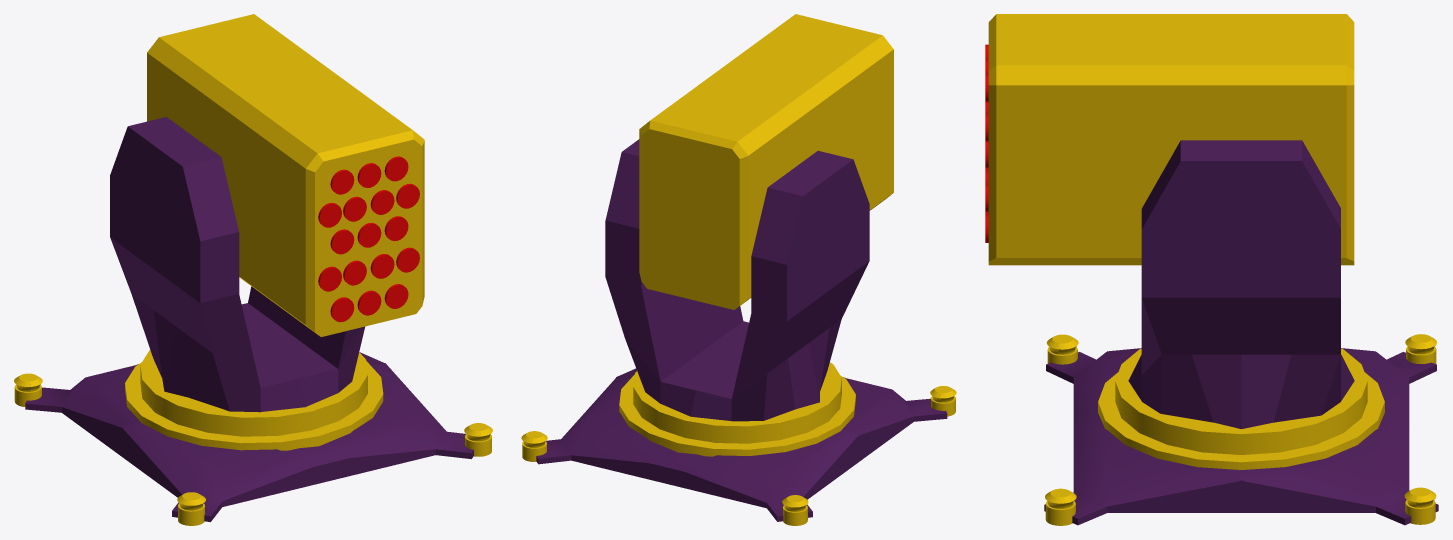
Rendered from Cannon4.fbx.
3 views of the same model, side by side, from view 1: azimuth 30°, elevation 25°; view 2: azimuth 150°, elevation 25°; view 3: azimuth 270°, elevation 25° (orthographic). The views are drawn at different scales.
Visible parts, largest first — view 1: pCube12, pCube11, pCube10, pCylinder33, pCylinder31, pCylinder32, pCylinder29; view 2: pCube12, pCube11, pCube10, pCylinder33, pCylinder29, pCylinder27, pCylinder31; view 3: pCube12, pCube11, pCube10, pCylinder33, pCylinder32, pCylinder27, pCylinder31, pCylinder29.
Boxes of the visible parts, <box> form: pCube12: <box>147,14,424,336</box>; pCube11: <box>110,117,365,412</box>; pCube10: <box>25,352,473,522</box>; pCylinder33: <box>125,350,383,450</box>; pCylinder31: <box>177,492,205,525</box>; pCylinder32: <box>464,423,492,456</box>; pCylinder29: <box>14,373,42,406</box>; pCube12: <box>639,14,893,309</box>; pCube11: <box>605,139,869,421</box>; pCube10: <box>536,368,947,521</box>; pCylinder33: <box>619,362,855,456</box>; pCylinder29: <box>782,495,808,525</box>; pCylinder27: <box>521,431,547,461</box>; pCylinder31: <box>930,386,956,416</box>; pCube12: <box>988,14,1354,265</box>; pCube11: <box>1128,140,1354,429</box>; pCube10: <box>1044,348,1438,525</box>; pCylinder33: <box>1098,348,1384,469</box>; pCylinder32: <box>1045,488,1076,525</box>; pCylinder27: <box>1404,487,1436,524</box>; pCylinder31: <box>1047,334,1078,364</box>; pCylinder29: <box>1405,334,1436,363</box>.
Size of the model in its own units: 1.45 by 1.63 by 1.65.
